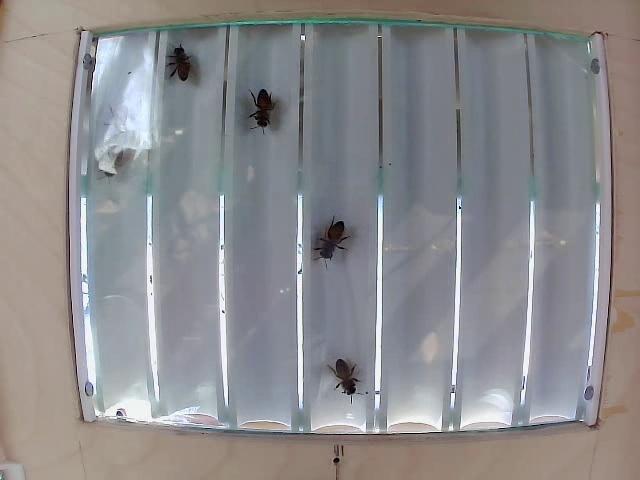bee: (239, 78, 289, 151), (307, 209, 349, 280), (163, 42, 202, 84), (319, 347, 359, 386)
